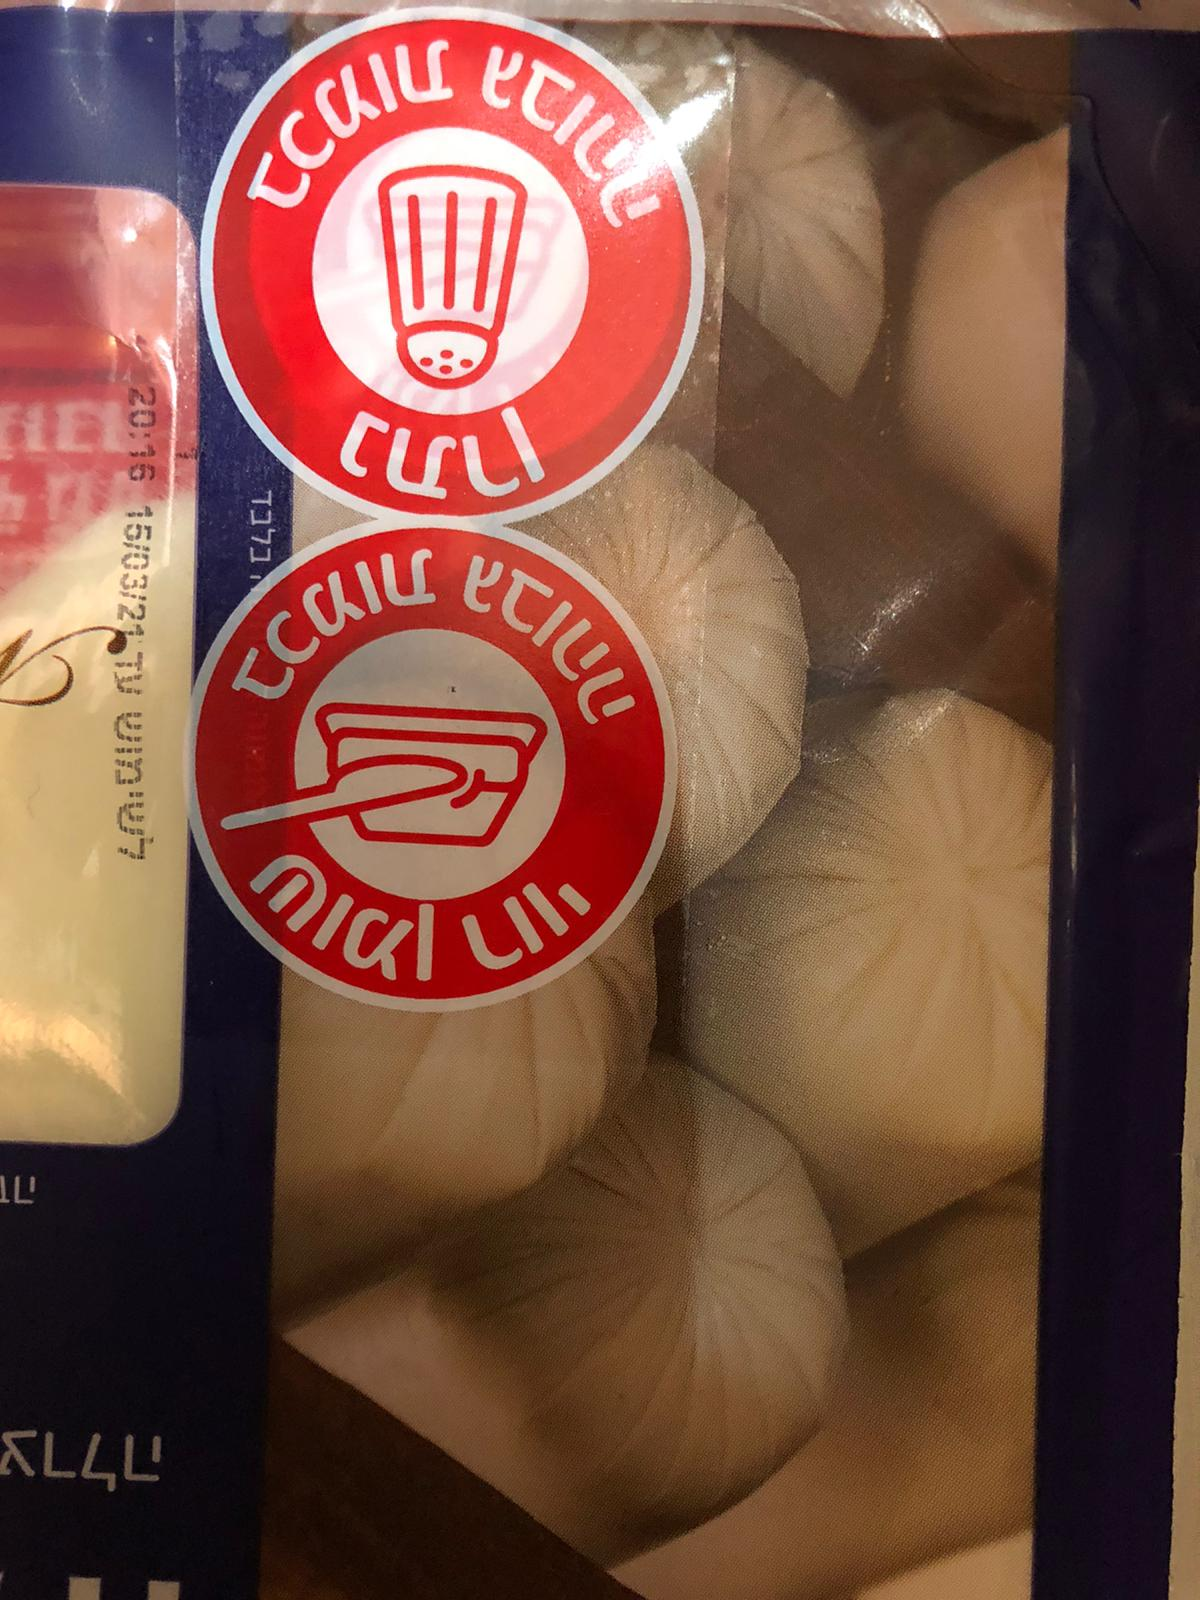fat: (187, 518, 681, 1010)
salt: (192, 5, 712, 528)
